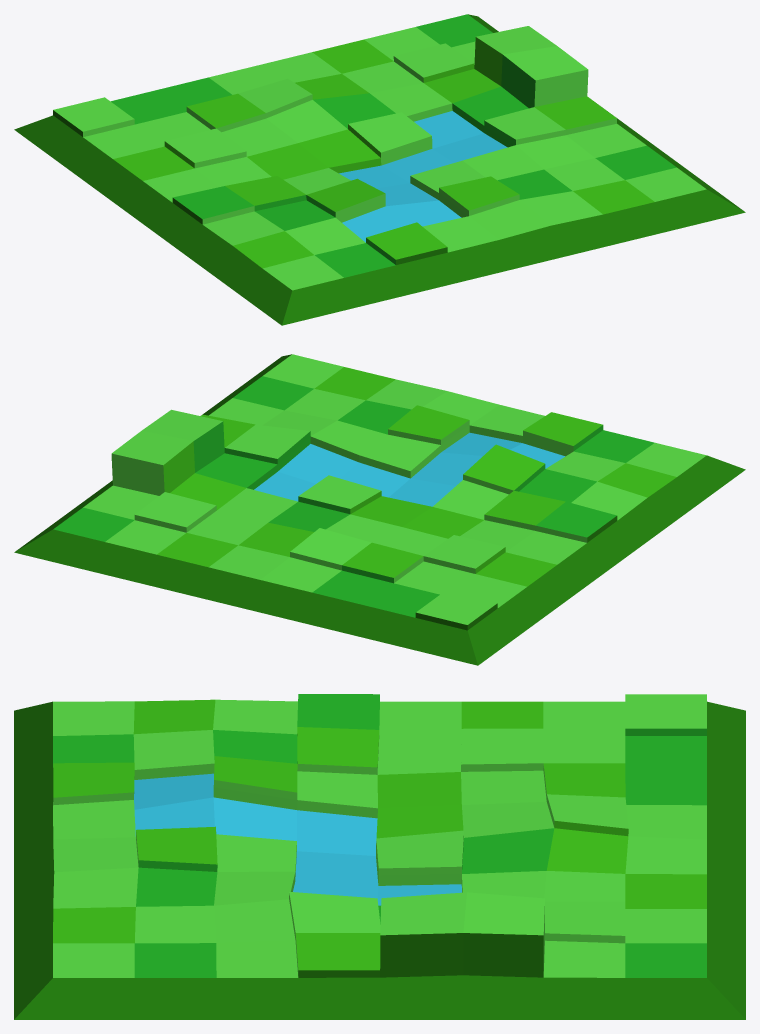
Rendered from des3.fbx.
3 views of the same model, one above another, from view 1: azimuth 30°, elevation 25°; view 2: azimuth 150°, elevation 25°; view 3: azimuth 270°, elevation 25° (orthographic). The views are drawn at different scales.
Visible parts, largest first — view 1: land4; view 2: land4; view 3: land4.
Boxes of the visible parts, x1,y1,x2,y2 form: land4: (14,14,745,325); land4: (14,354,745,665); land4: (14,694,745,1019).
Bounding box in the file's own units: 101 × 11.51 × 101.
